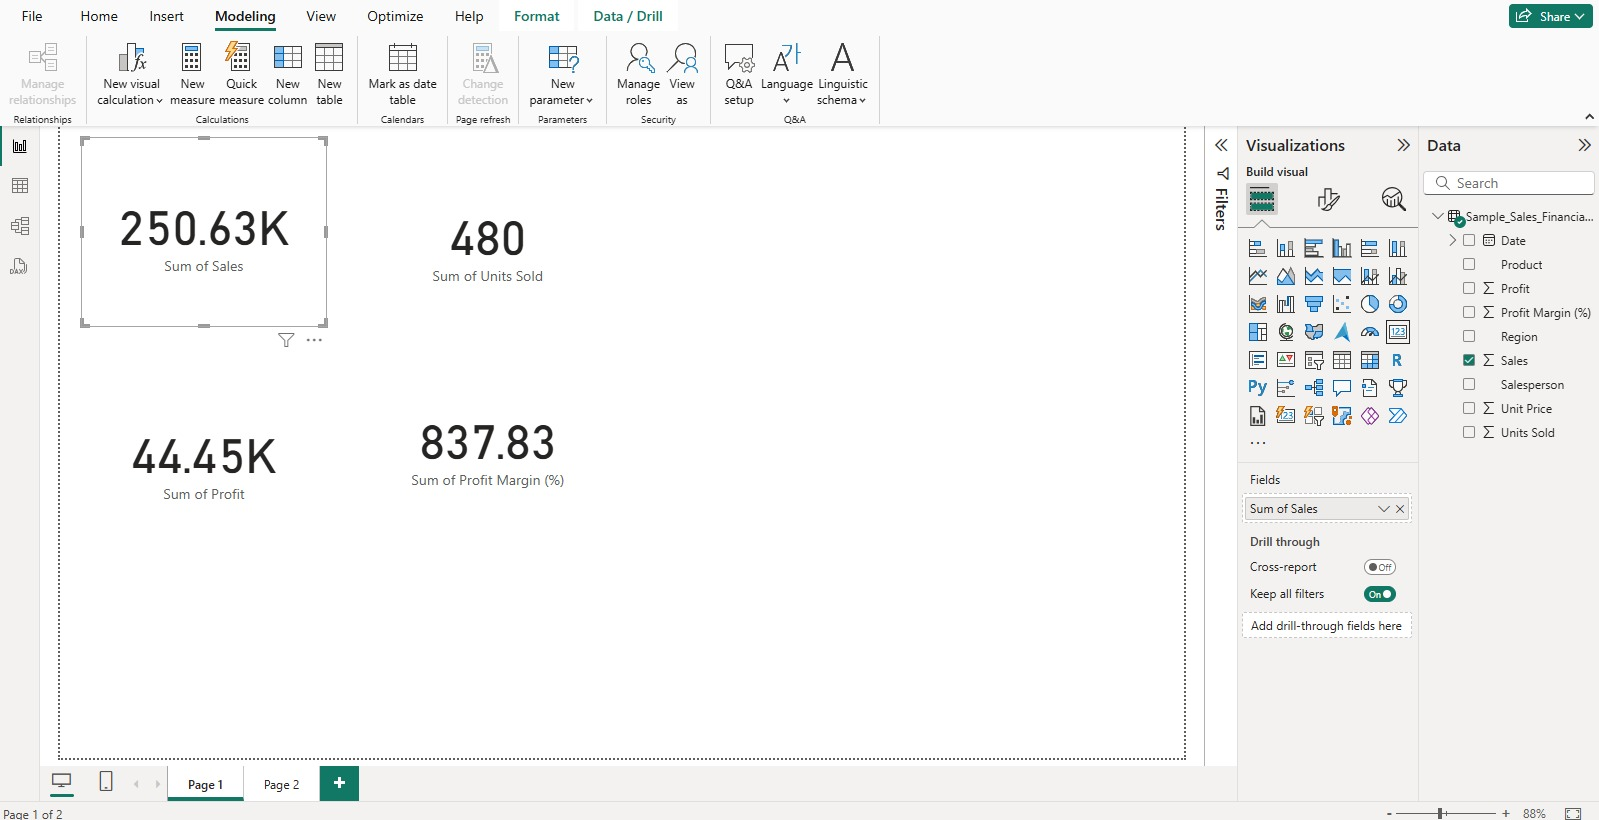

The page's visual inventory and layout, read from the dashboard file:
{"tool":"powerbi","page":{"name":"Page 1","canvas":[1280,720],"ordinal":0},"visuals":[{"type":"card","fields":{"Values":["Sum(Sample_Sales_Financial_Data.Sales)"]},"box":[23.9,12.5,280.3,216.5],"z":0},{"type":"card","fields":{"Values":["Sum(Sample_Sales_Financial_Data.Profit)"]},"box":[24,272,280,216],"z":1},{"type":"card","fields":{"Values":["Sum(Sample_Sales_Financial_Data.Units Sold)"]},"box":[347.5,23.9,280.3,216.5],"z":2},{"type":"card","fields":{"Values":["Sum(Sample_Sales_Financial_Data.Profit Margin (%))"]},"box":[347.5,256.3,280.3,216.5],"z":3}]}

Visuals, with their boxes on the page's 1280x720 design canvas (x1, y1, x2, y2). These are canvas units, not pixel positions in the 1599x820 screenshot, which may show the page scaled, cropped or inside an application window:
card - Sum(Sample_Sales_Financial_Data.Sales): [24,12,304,229]
card - Sum(Sample_Sales_Financial_Data.Profit): [24,272,304,488]
card - Sum(Sample_Sales_Financial_Data.Units Sold): [348,24,628,240]
card - Sum(Sample_Sales_Financial_Data.Profit Margin (%)): [348,256,628,473]
